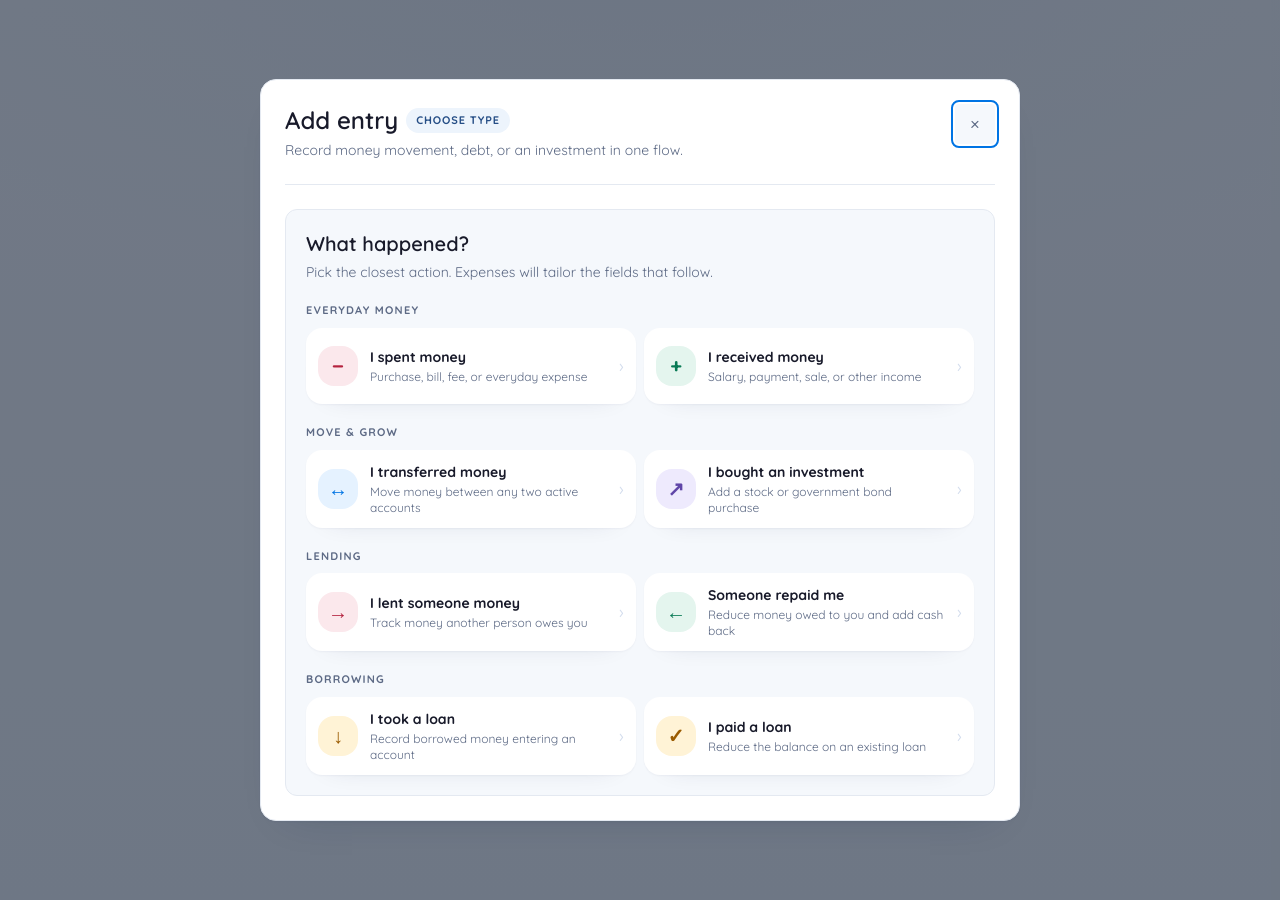
Test: AddEntryDialog › asks what happened before showing transaction details
This screenshot has width=1280, height=900.
Check: the heading "What happened?" is shown, box top-left (306, 231), bottom-right (469, 256)
Check: the field labelled "Amount" is not shown
Click the button "I spent money".
click(338, 366)  # box top-left (306, 328), bottom-right (636, 404)
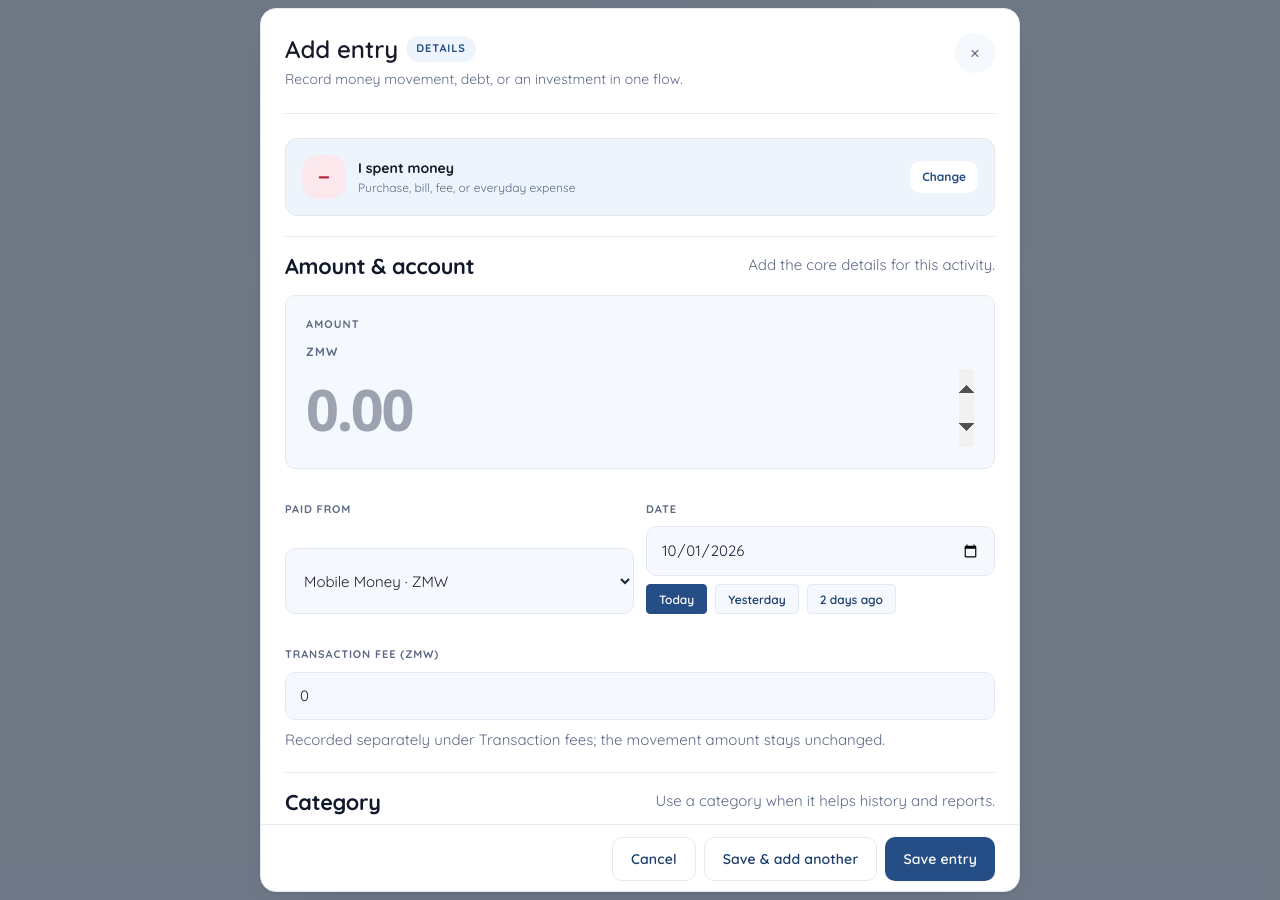
Check: the number field named "Amount" is shown, box top-left (306, 369), bottom-right (974, 448)
Check: the dropdown labelled "Paid from" is shown, box top-left (285, 548), bottom-right (634, 614)
